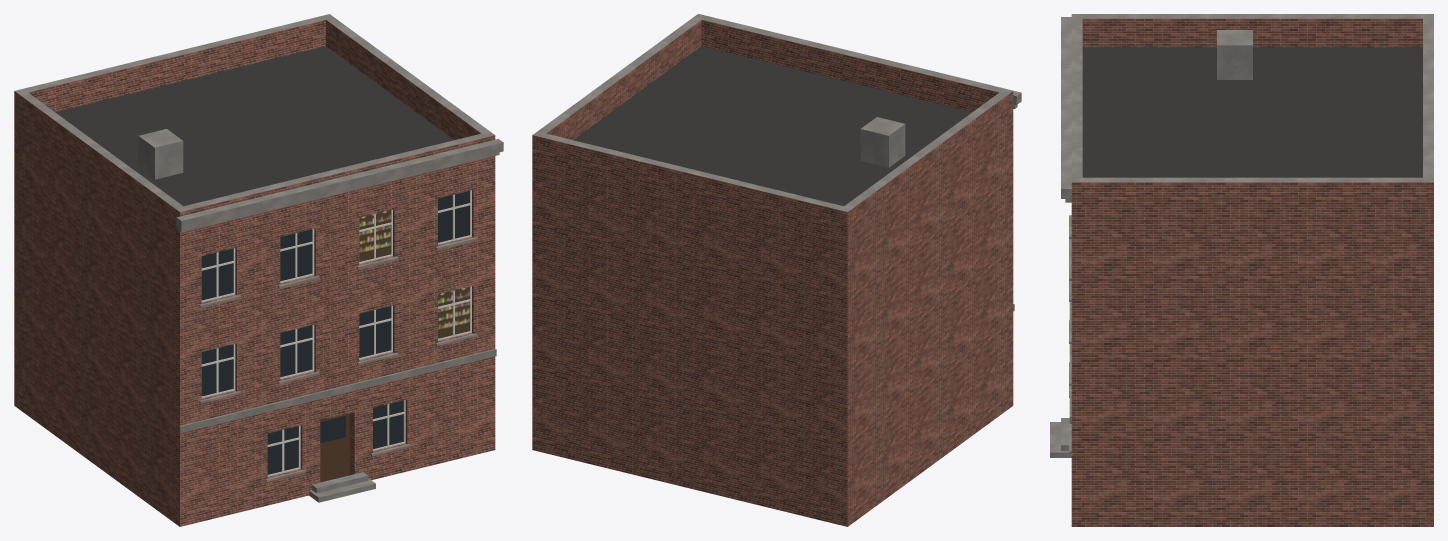
File: Bld_ResidentialB.fbx
3 renders of one model, left to right at view 1: azimuth 30°, elevation 25°; view 2: azimuth 150°, elevation 25°; view 3: azimuth 270°, elevation 25°, orthographic. The views are drawn at different scales.
Visible parts, largest first — view 1: Bld_ResidentialB; view 2: Bld_ResidentialB; view 3: Bld_ResidentialB.
Boxes of the visible parts, <box> form: Bld_ResidentialB: <box>14,14,503,526</box>; Bld_ResidentialB: <box>532,14,1021,526</box>; Bld_ResidentialB: <box>1050,14,1433,526</box>.
Bounding box in the file's own units: 11.24 × 10.69 × 10.6.
